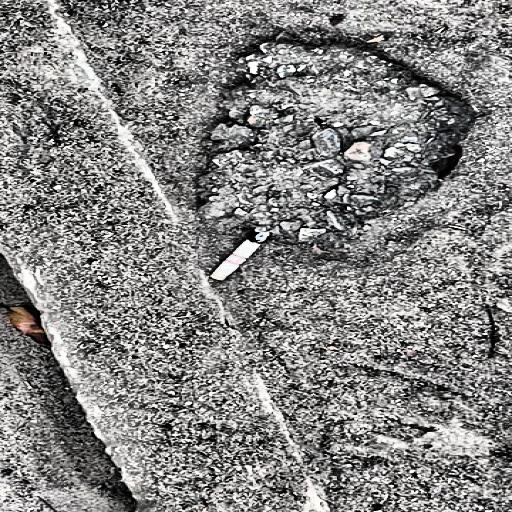Merokok: (212, 231, 267, 281)
